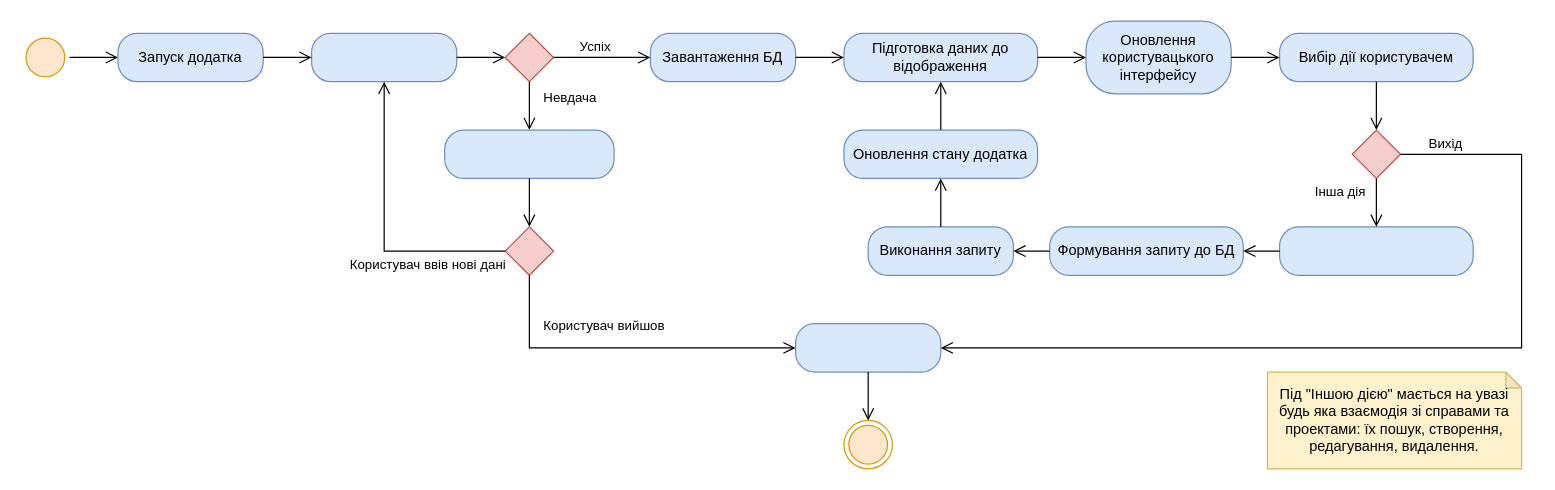
The diagram is 1555 pixels wide and 490 high, and some of its shapes have lost their labels. Each missing label, with the centre of its shape:
Авторизація: the point at 383,57
Вихід із додатка: the point at 867,347
Запрошення ввести інші дані: the point at 528,153
Підготовка даних до обробки: the point at 1375,250
